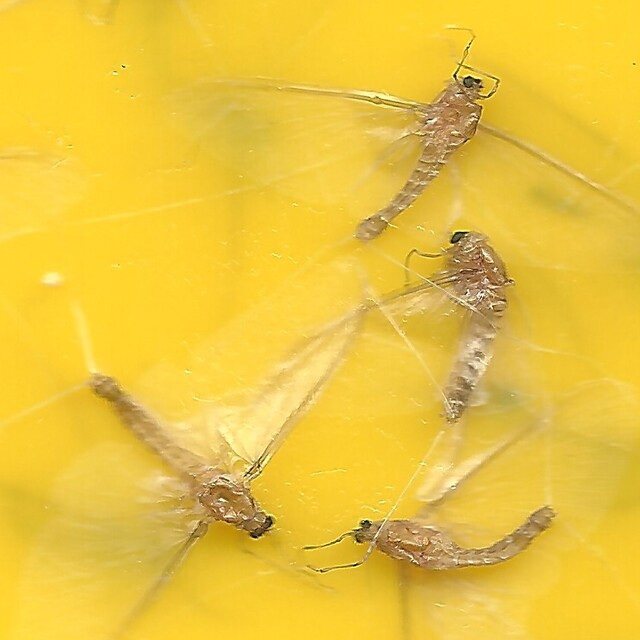Ephemeroptera: (86, 370, 282, 543), (356, 72, 488, 239), (432, 230, 513, 422), (354, 501, 554, 568)
